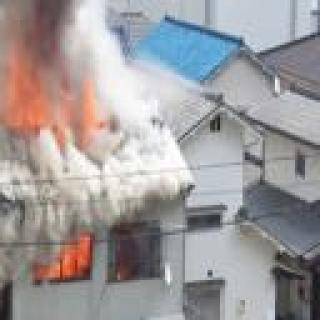fire: (0, 44, 105, 147), (34, 225, 96, 292), (0, 152, 10, 320)
